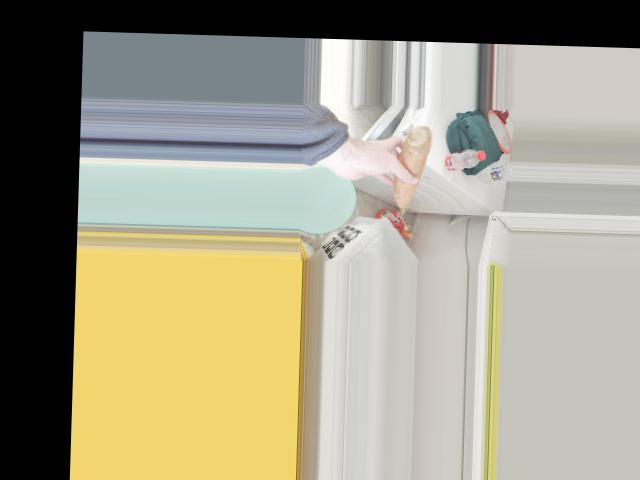sweet_potato: (397, 125, 426, 217)
